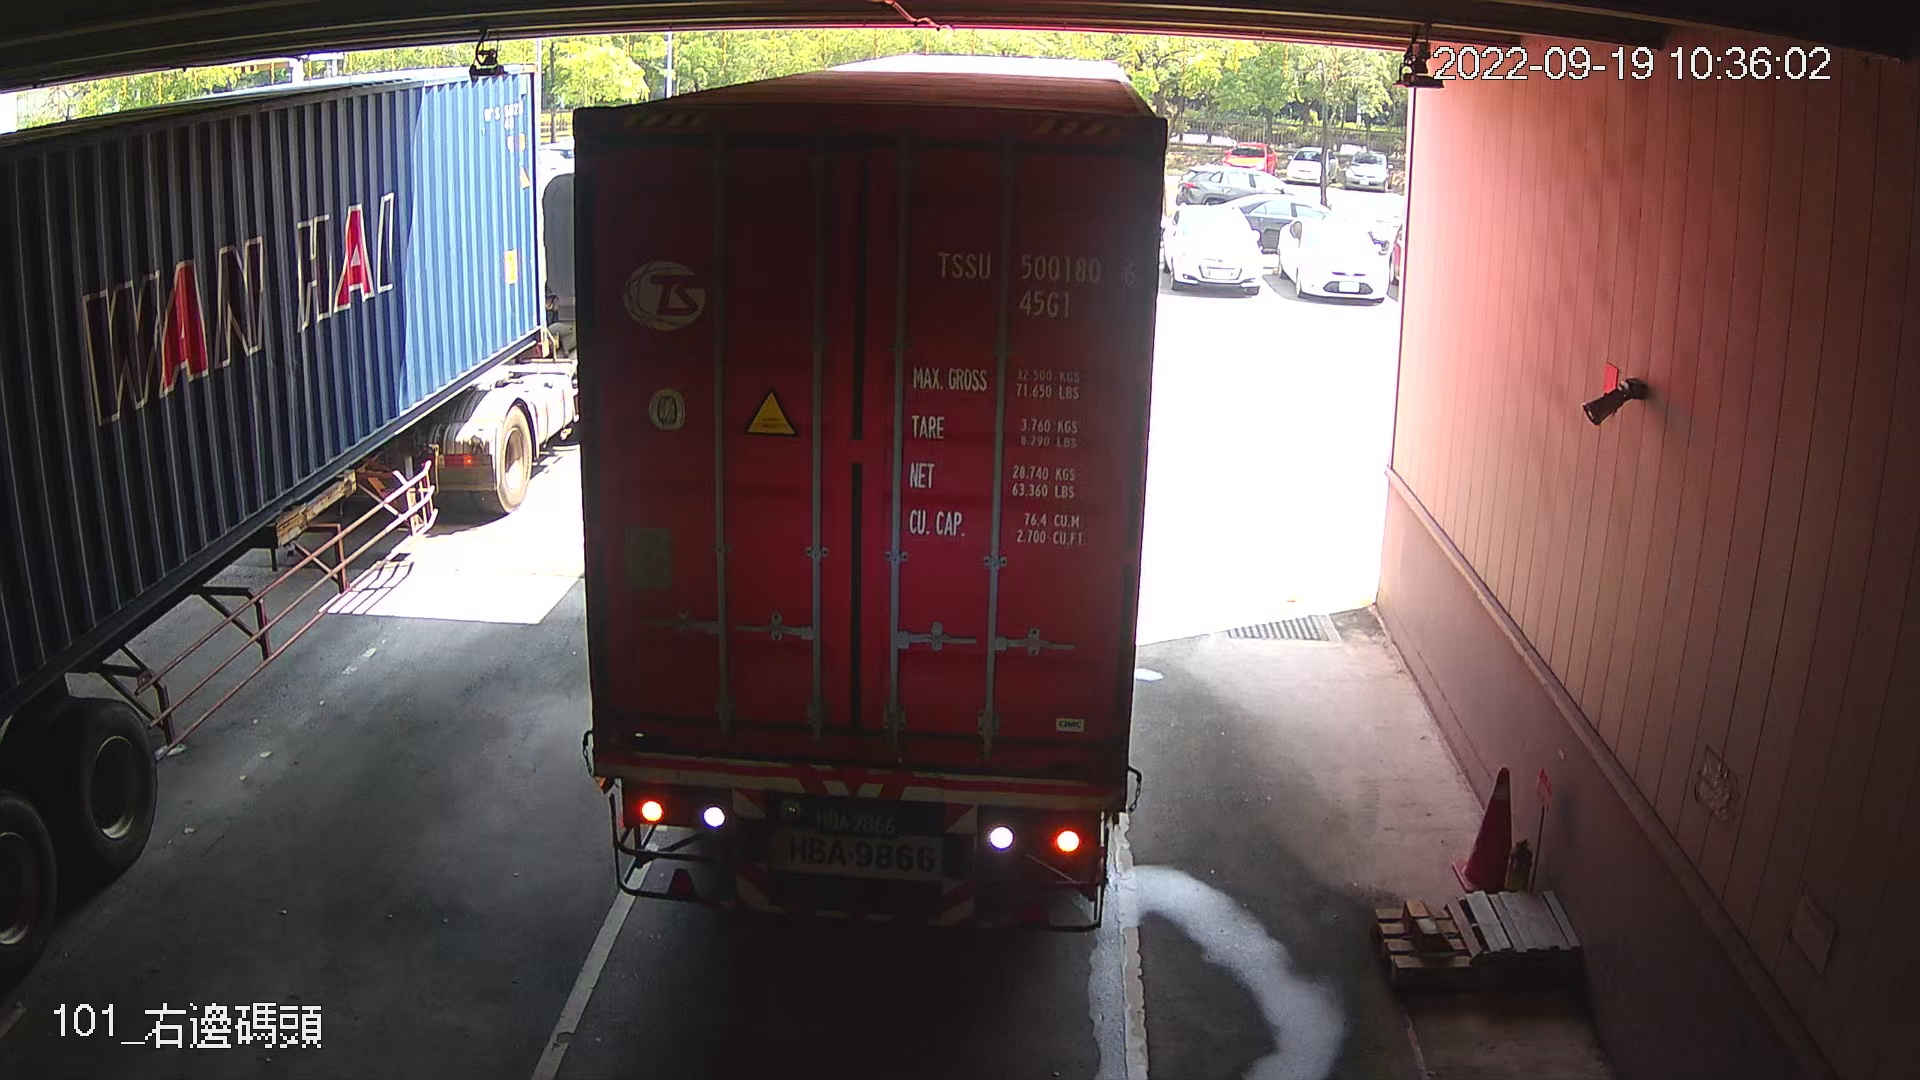container: (922, 236, 1145, 328)
